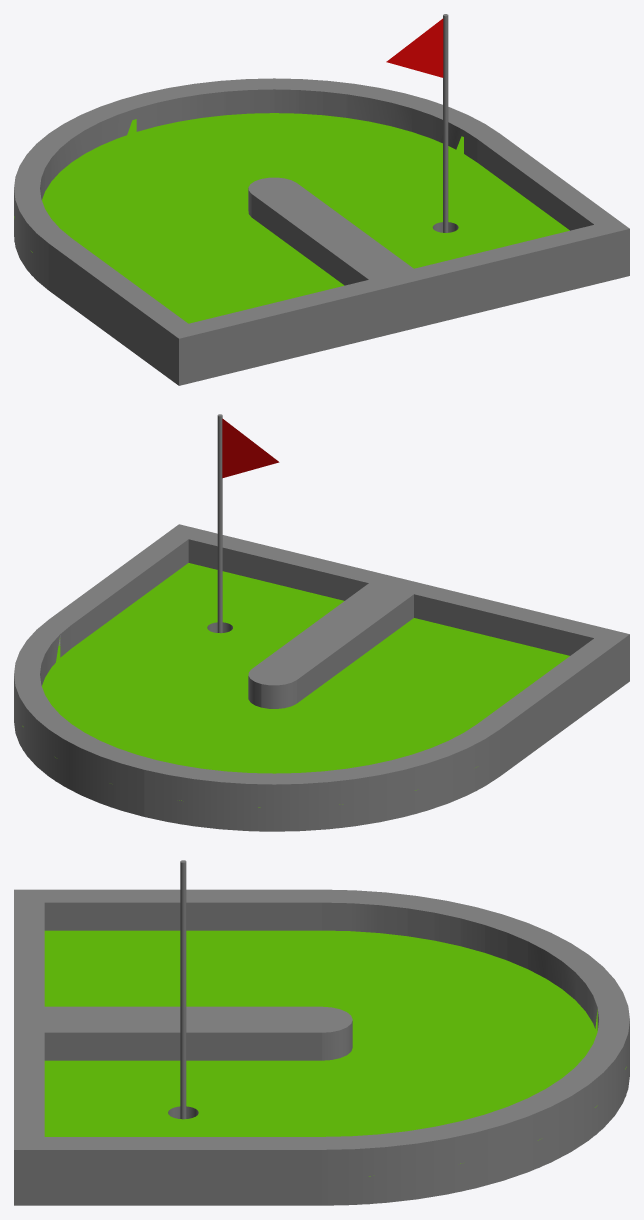
Rendered from course2.fbx.
The picture shows the model from 3 angles, top to bottom: view 1: azimuth 30°, elevation 25°; view 2: azimuth 150°, elevation 25°; view 3: azimuth 270°, elevation 25°; orthographic projection. The views are drawn at different scales.
Visible parts, largest first — view 1: start1, polySurface3, curve2, curve1, polySurface4, polySurface2; view 2: start1, curve1, polySurface3, curve2, polySurface4, polySurface2; view 3: polySurface3, curve2, start1, curve1, polySurface4.
Part boxes in pixels (bbox=[...]): start1: bbox=[49, 188, 404, 385]; polySurface3: bbox=[274, 133, 629, 330]; curve2: bbox=[144, 78, 499, 200]; curve1: bbox=[14, 93, 273, 290]; polySurface4: bbox=[386, 14, 448, 232]; polySurface2: bbox=[386, 18, 443, 77]; start1: bbox=[274, 579, 629, 776]; curve1: bbox=[144, 674, 499, 831]; polySurface3: bbox=[49, 524, 403, 691]; curve2: bbox=[14, 619, 273, 816]; polySurface4: bbox=[217, 414, 275, 633]; polySurface2: bbox=[222, 418, 278, 478]; polySurface3: bbox=[14, 1019, 321, 1205]; curve2: bbox=[322, 1019, 629, 1205]; start1: bbox=[14, 889, 321, 1019]; curve1: bbox=[322, 889, 629, 1047]; polySurface4: bbox=[180, 860, 186, 1119].
Size of the model in its own units: 20 by 10 by 20.
